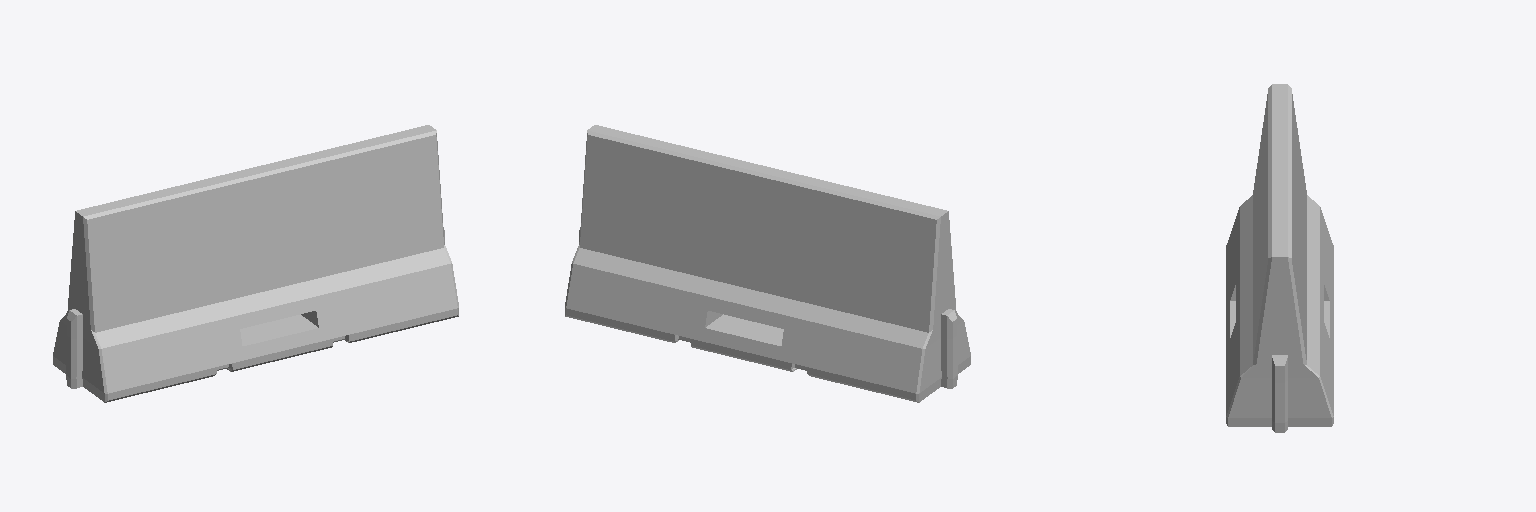
File: road_barier_2b.obj
The picture shows the model from 3 angles: view 1: azimuth 30°, elevation 25°; view 2: azimuth 150°, elevation 25°; view 3: azimuth 270°, elevation 25°; orthographic projection.
Visible parts, largest first — view 1: road_barier_2b_roads_material; view 2: road_barier_2b_roads_material; view 3: road_barier_2b_roads_material.
Part boxes in pixels (bbox=[...]): road_barier_2b_roads_material: bbox=[53, 125, 458, 402]; road_barier_2b_roads_material: bbox=[565, 125, 970, 402]; road_barier_2b_roads_material: bbox=[1226, 84, 1333, 432].
Bounding box in the file's own units: 3.46 × 1.5 × 0.8571.